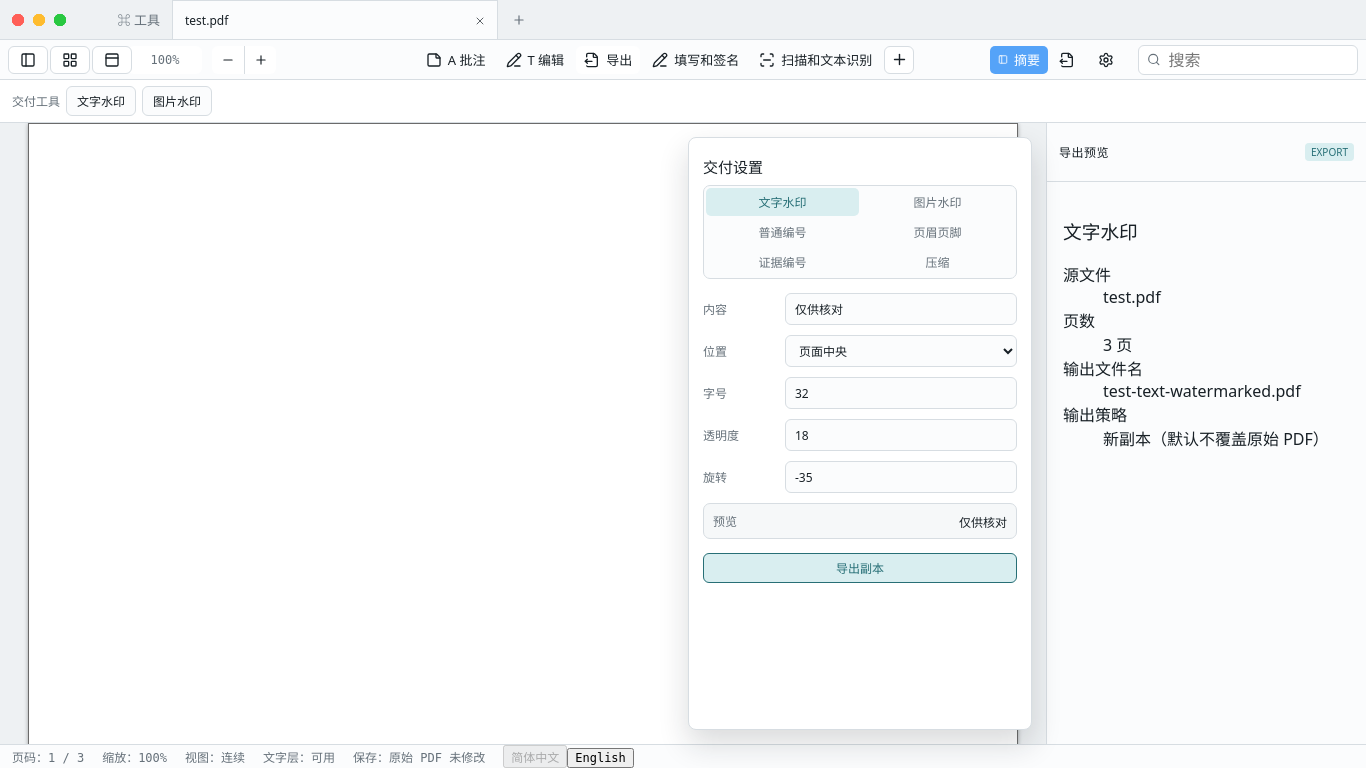
AppShell modes 上下文工具条 › export toolbar switches the delivery panel between text and image watermark
expect the element named "文字水印设置" is shown: met, box [703,293,1017,539]
What coordinates should you click on to do the following:
click the button "图片水印" in the row of "交付工具"
I would click on:
 (177, 101)
Its box is [142,86,212,116].
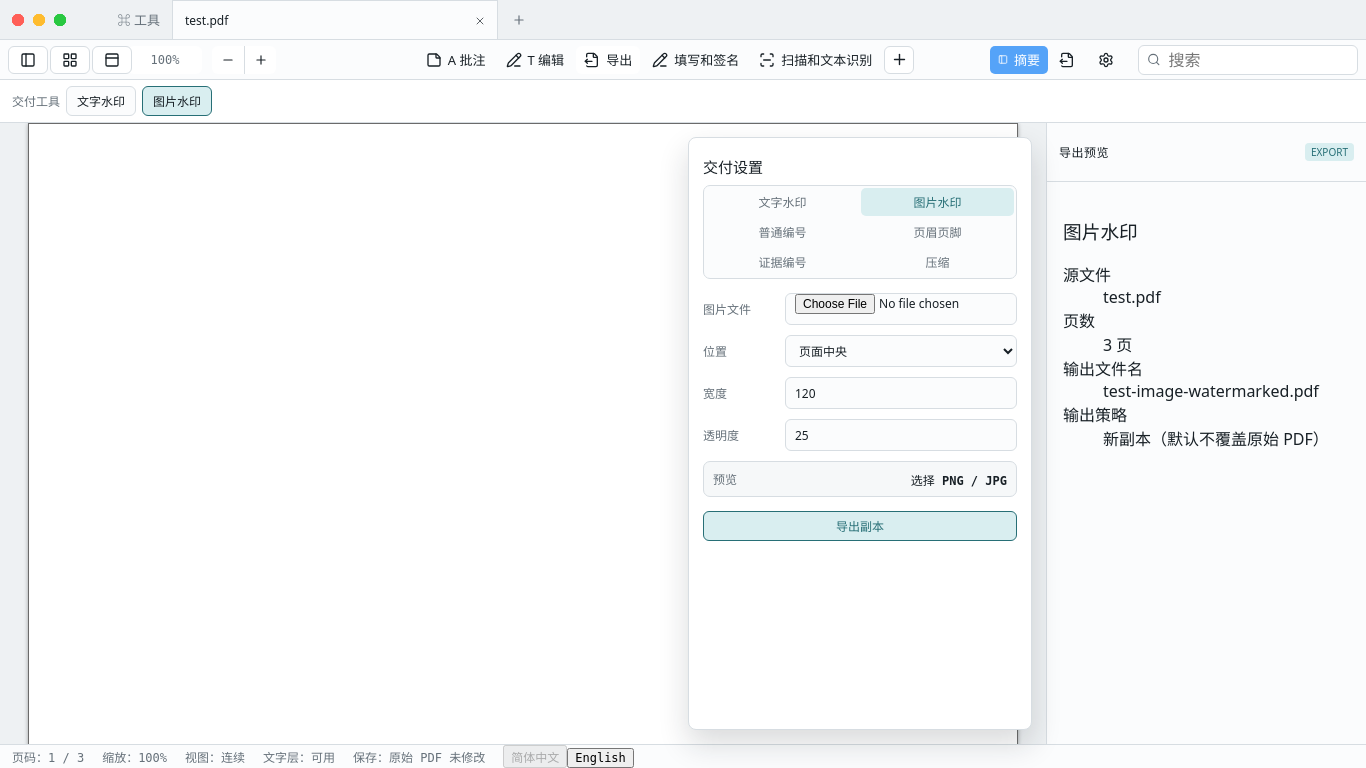
expect the element named "图片水印设置" is shown: met, box [703,293,1017,497]
What coordinates should you click on to do the following:
click the button "文字水印" next to "交付工具"
I would click on:
 (101, 101)
Its box is [66,86,136,116].
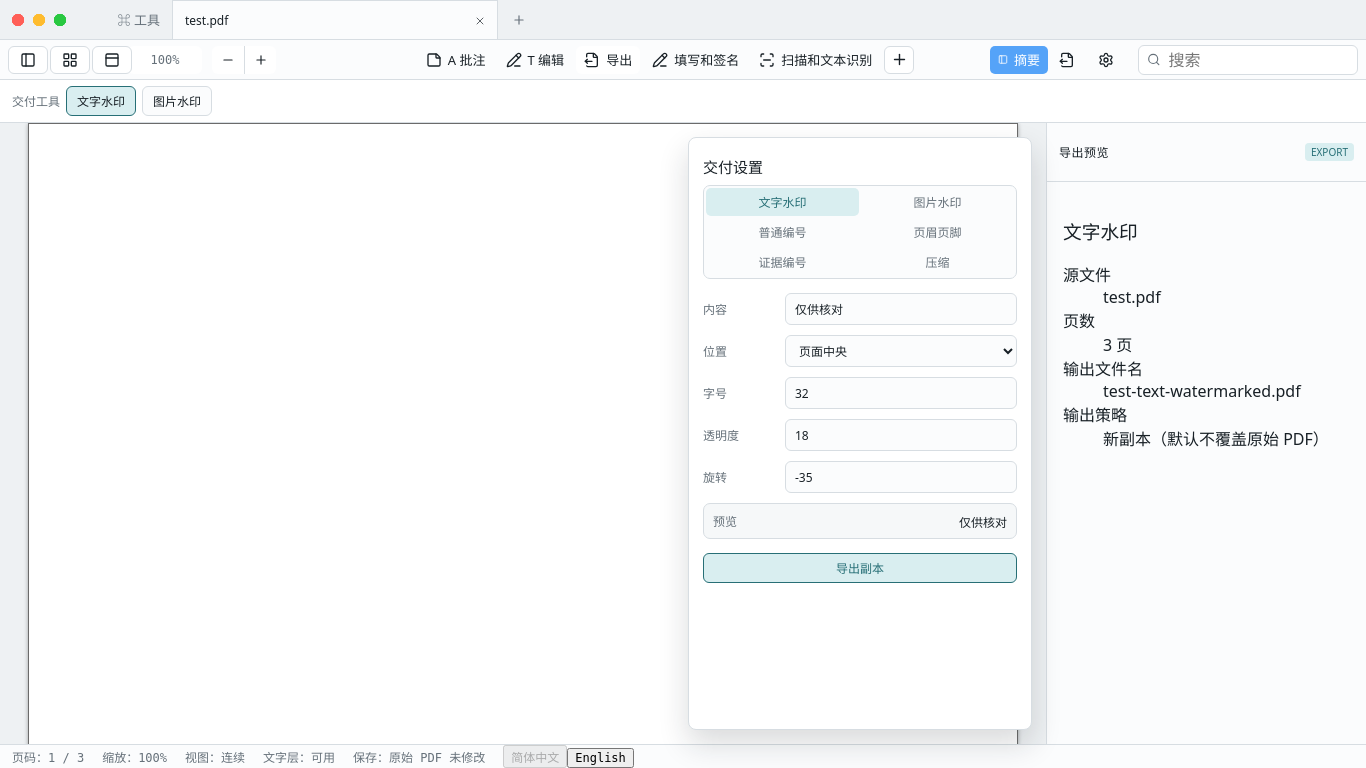
expect the element named "文字水印设置" is shown: met, box [703,293,1017,539]
